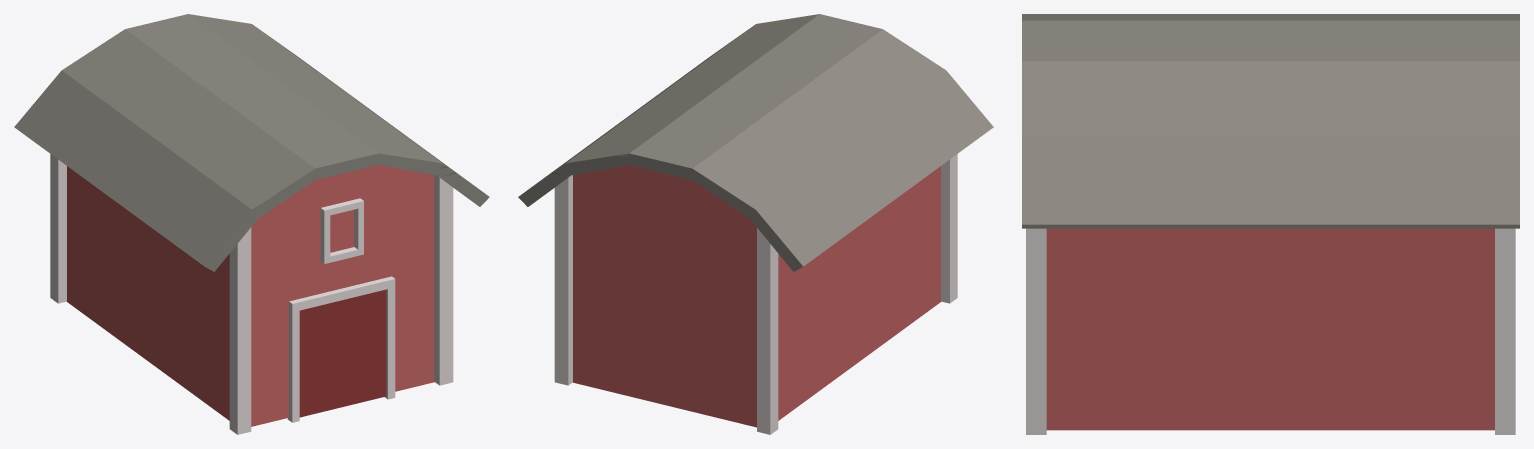
Rendered from BarnHouse.fbx.
The picture shows the model from 3 angles, left to right: view 1: azimuth 30°, elevation 25°; view 2: azimuth 150°, elevation 25°; view 3: azimuth 270°, elevation 25°; orthographic projection. The views are drawn at different scales.
Visible parts, largest first — view 1: BarnHouse; view 2: BarnHouse; view 3: BarnHouse.
Boxes of the visible parts, bbox=[...] form: BarnHouse: bbox=[14, 14, 489, 434]; BarnHouse: bbox=[518, 14, 993, 434]; BarnHouse: bbox=[1022, 14, 1519, 434].
Bounding box in the file's own units: 4.29 × 3.62 × 4.96.
